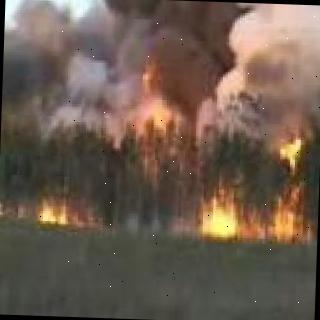fire: (199, 138, 318, 246), (138, 50, 187, 141), (38, 203, 78, 226)
